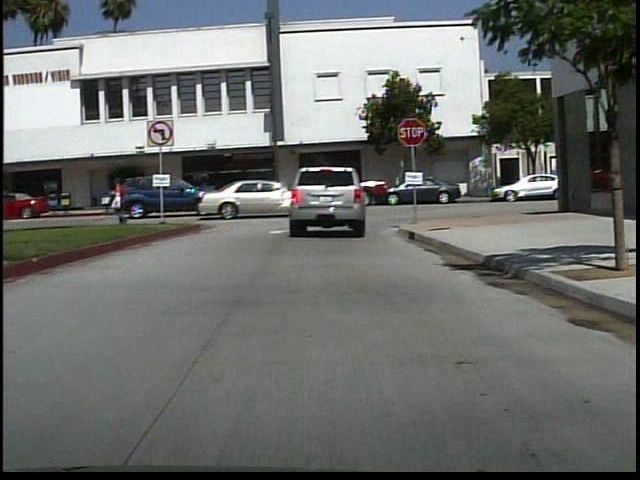person: (314, 165, 342, 230), (106, 174, 139, 226), (199, 173, 217, 206)
